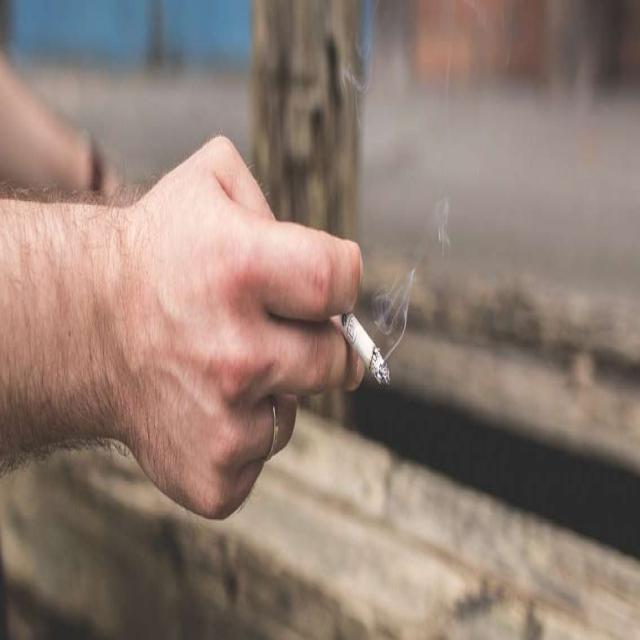rokok: (327, 298, 407, 390)
